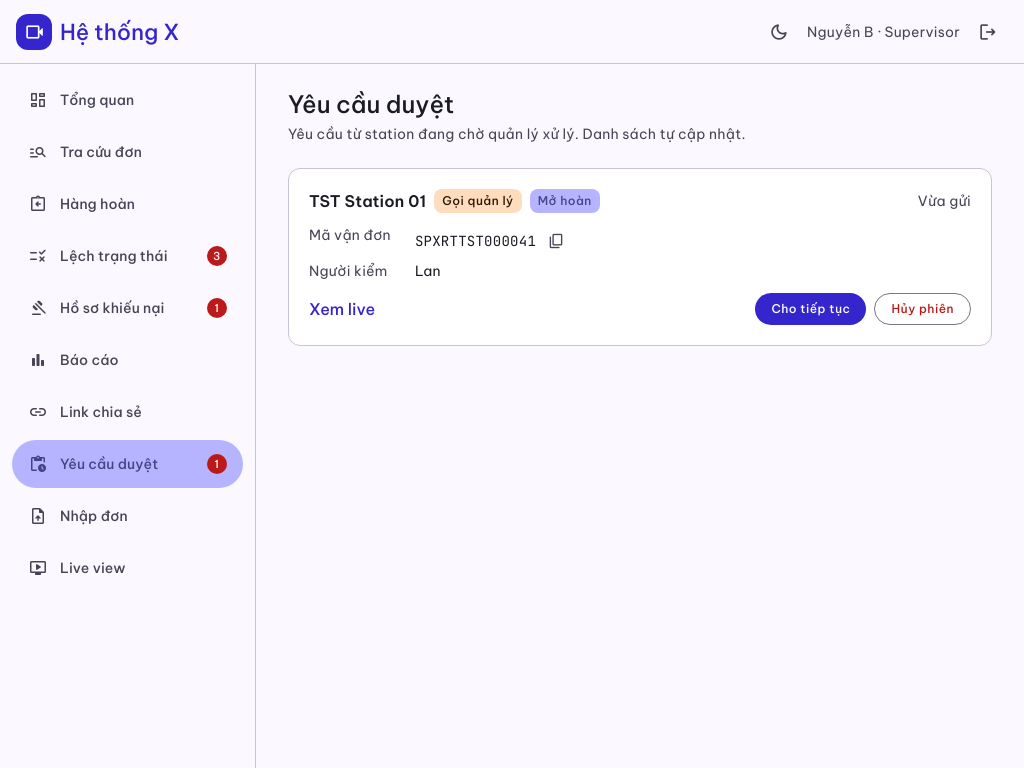
Test: D13 Hủy phiên mở hoàn? › radio không chọn sẵn, nút khóa tới khi đủ; chữ đổi theo lý do; gửi reason_code + note
Click the button "Hủy phiên" at (923, 309), box 874,293 -> 971,325
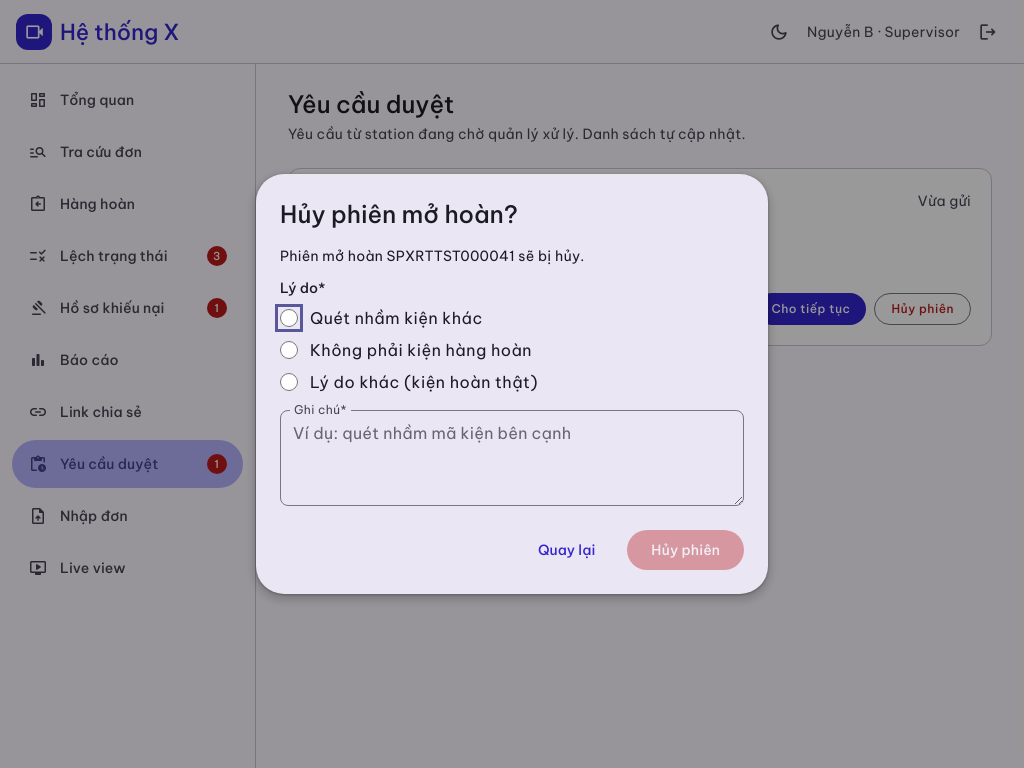
Expected: the radio button labelled "Quét nhầm kiện khác" is not checked, 280,309 -> 298,327
Expected: the radio button labelled "Không phải kiện hàng hoàn" is not checked, 280,341 -> 298,359
Expected: the radio button labelled "Lý do khác (kiện hoàn thật)" is not checked
Click the radio button labelled "Lý do khác (kiện hoàn thật)" at (289, 382), box 280,373 -> 298,391
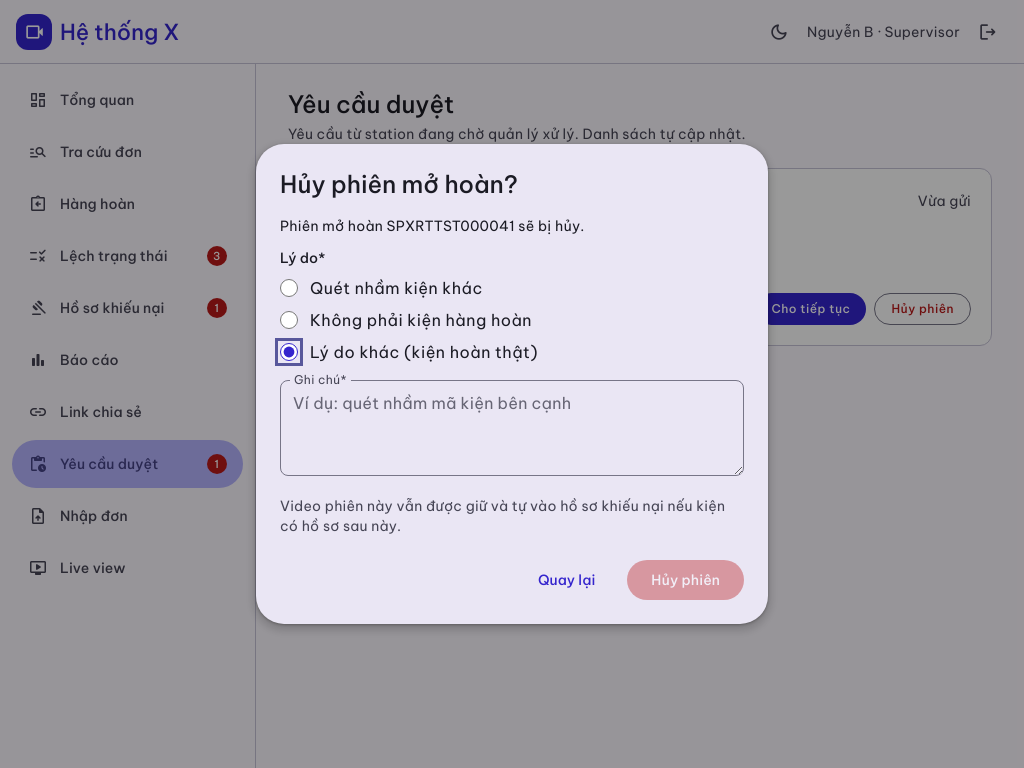
Expected: the text "Video phiên này vẫn được giữ và tự vào hồ sơ khiếu nại nếu kiện có hồ sơ sau này." is shown, 280,497 -> 725,535
Click the radio button labelled "Quét nhầm kiện khác" at (289, 288), box 280,279 -> 298,297
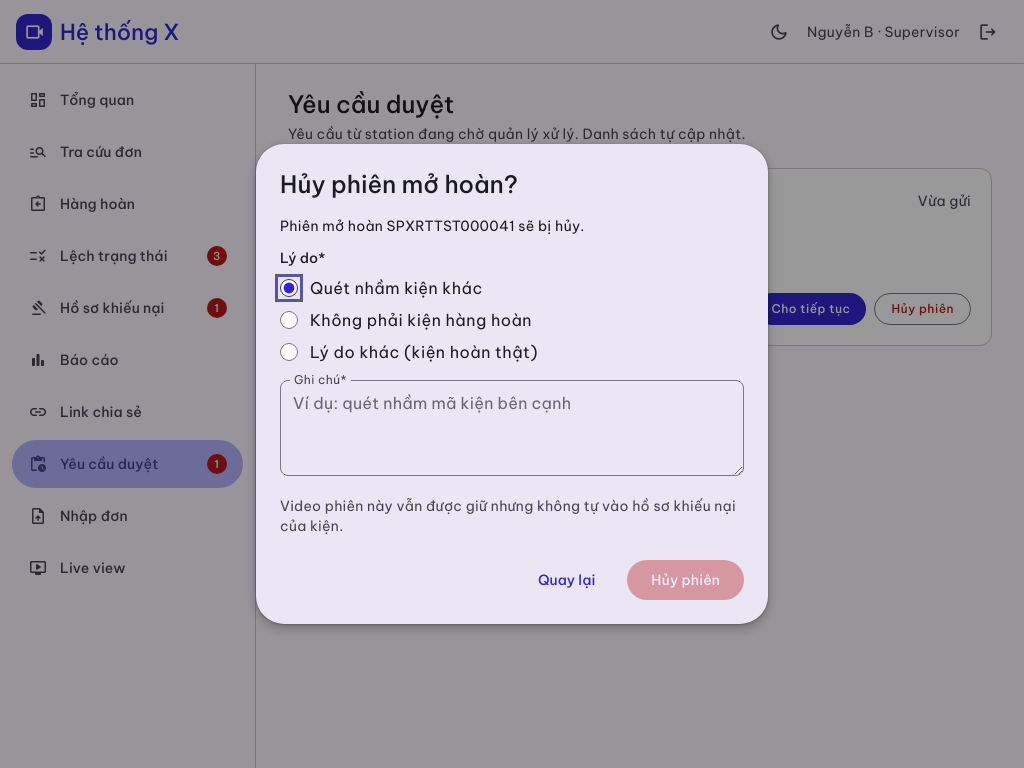
Expected: the text "Video phiên này vẫn được giữ nhưng không tự vào hồ sơ khiếu nại của kiện." is shown, 280,496 -> 744,536
Type "abc" into the text box labelled "Ghi chú*" at (512, 428), box 280,380 -> 744,476
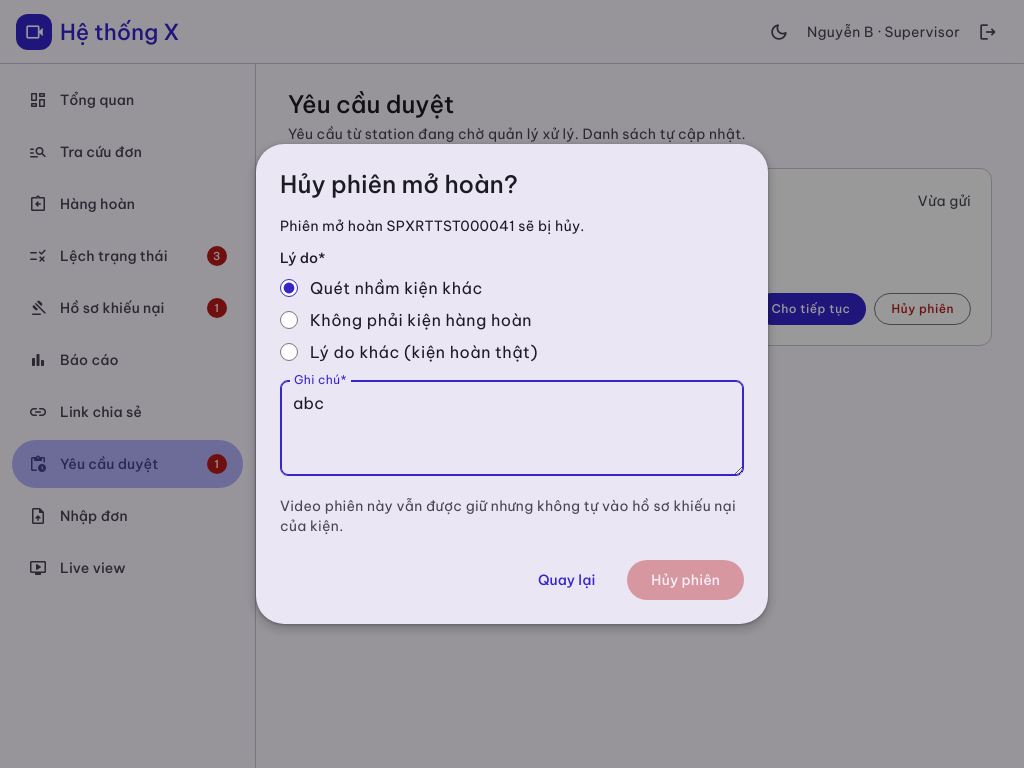
Expected: the button "Hủy phiên" is disabled, 627,560 -> 744,600
Type " quét nhầm mã bên cạnh" into the text box labelled "Ghi chú*" at (512, 428), box 280,380 -> 744,476
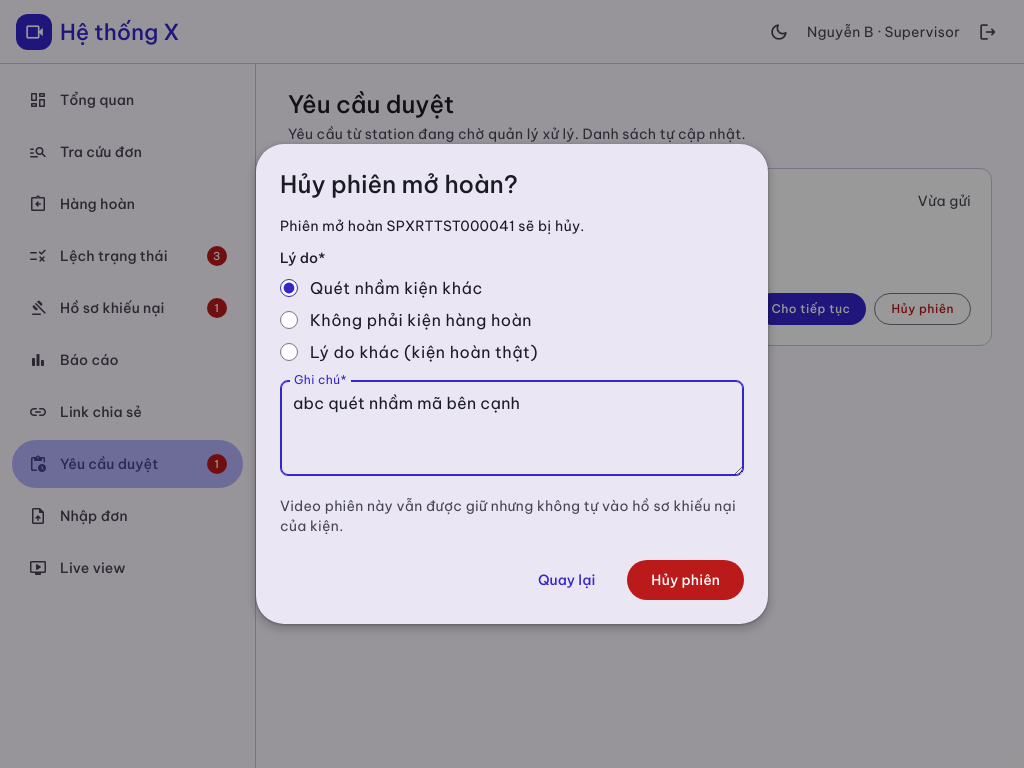
Expected: the button "Hủy phiên" is enabled
Click the button "Hủy phiên" at (686, 580), box 627,560 -> 744,600
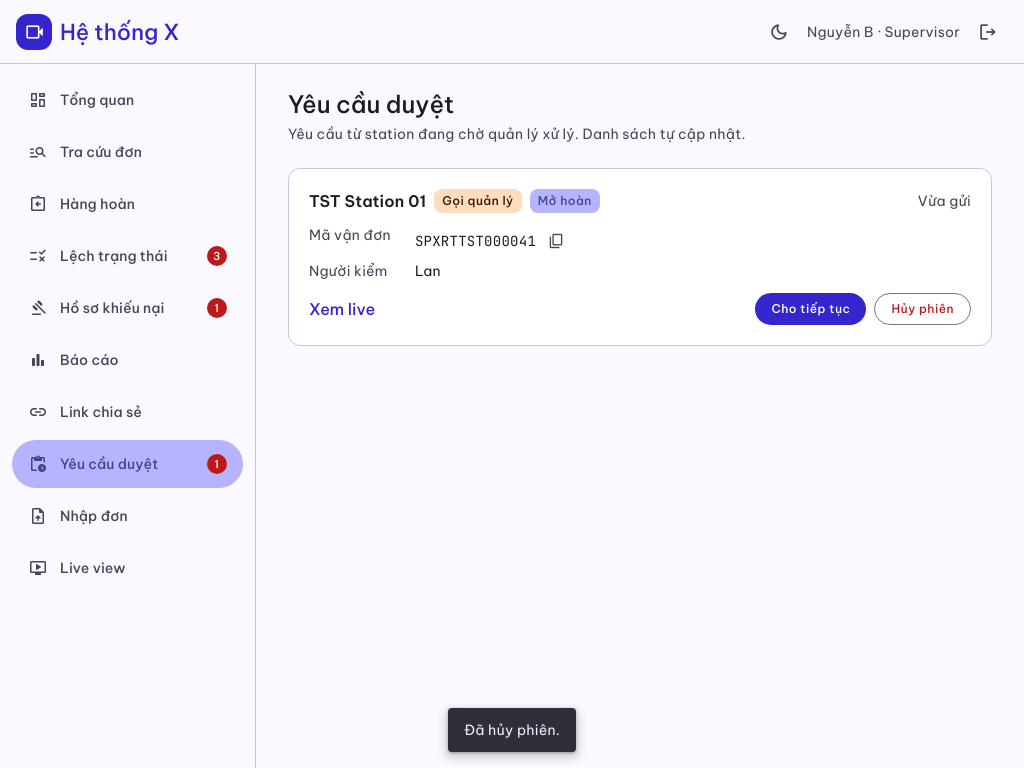
Expected: the text "Đã hủy phiên." is shown, 448,708 -> 576,752
